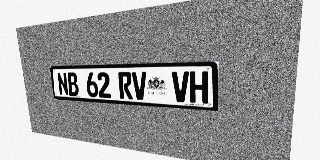2: (97, 72, 111, 98)
6: (85, 72, 99, 97)
B: (67, 72, 79, 96)
H: (190, 71, 208, 104)
N: (57, 72, 69, 96)
R: (118, 72, 133, 99)
V: (172, 71, 189, 103), (132, 72, 147, 100)
